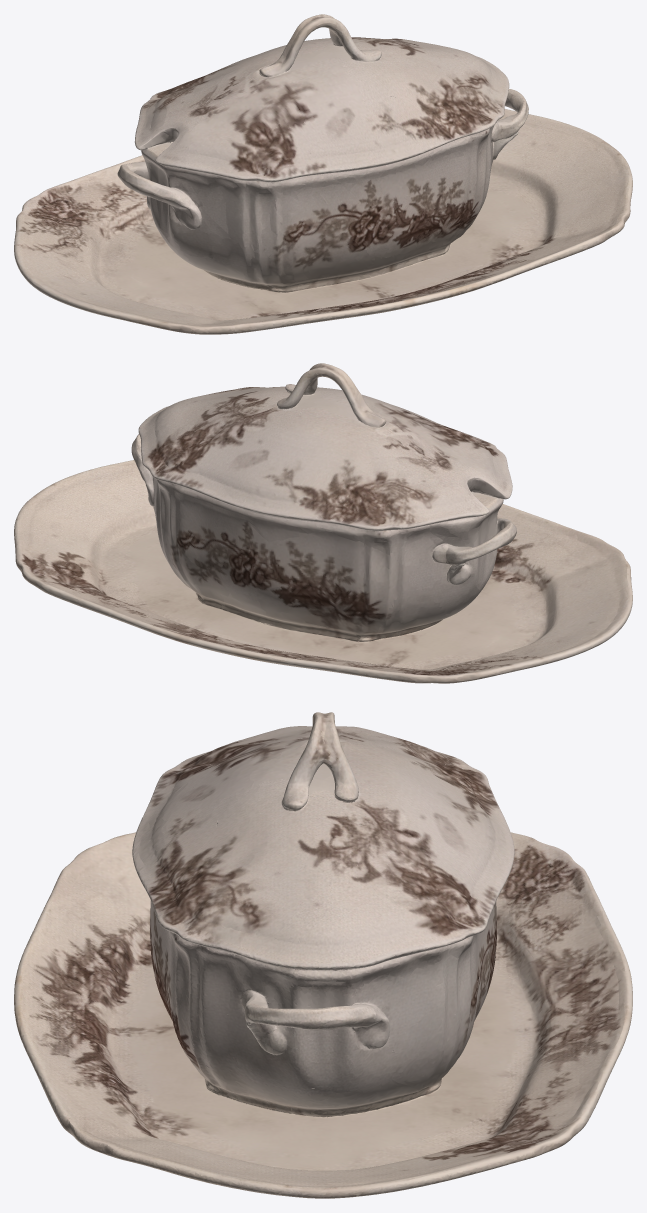
The model's file is MangkukSup.glb.
The picture shows the model from 3 angles, top to bottom: view 1: azimuth 30°, elevation 25°; view 2: azimuth 150°, elevation 25°; view 3: azimuth 270°, elevation 25°; orthographic projection. The views are drawn at different scales.
Size of the model in its own units: 1.9 by 0.7333 by 1.27.
Materials: 1 (1 with a texture image).
